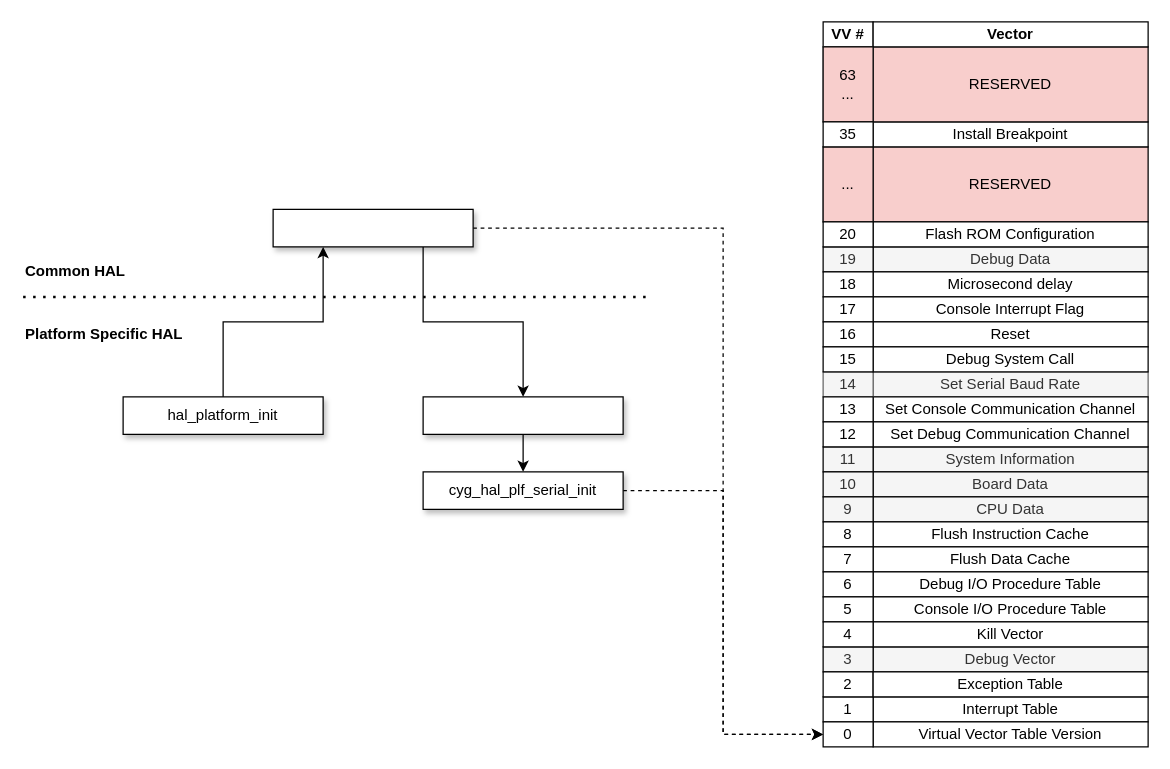
Image size: 1170x769. Some labels were removed from this diagram. Each missing label, with the centre of its shape:
"cyg_hal_plf_comms_init" goes at [524,417].
"hal_if_init" goes at [374,229].
